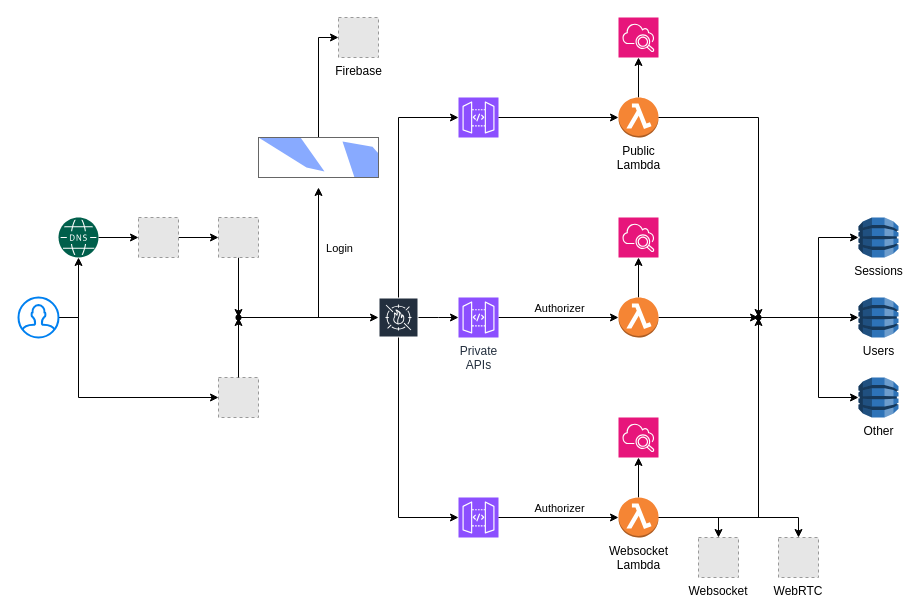
The diagram is 920 pixels wide and 616 high, and some of its shapes have lost their labels. Grey dashed boxes stand in for pictures. Each missing label, with the centre of its shape:
Private Lambda: point (638, 317)
Public APIs: point (478, 117)
reCAPTCHA: point (318, 157)
Websocket APIs: point (478, 517)
